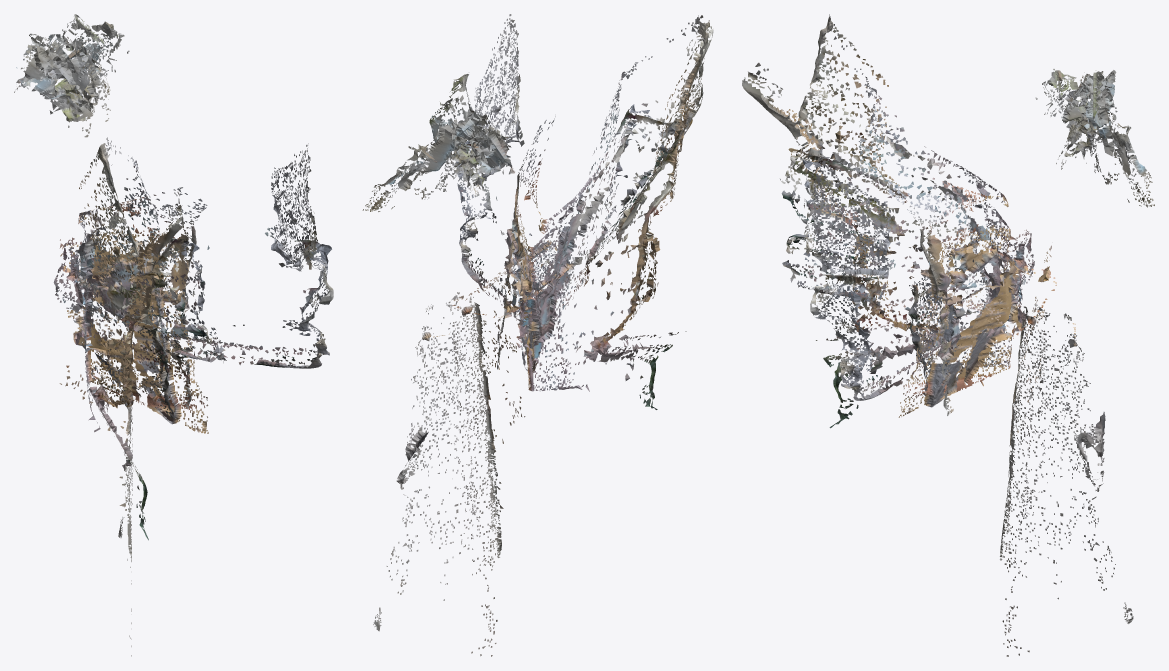
The picture shows the model from 3 angles, left to right: view 1: azimuth 30°, elevation 25°; view 2: azimuth 150°, elevation 25°; view 3: azimuth 270°, elevation 25°; orthographic projection. The views are drawn at different scales.
Visible parts, largest first — view 1: geometry_0; view 2: geometry_0; view 3: geometry_0.
Boxes of the visible parts, <box> form: geometry_0: <box>14,14,333,656</box>; geometry_0: <box>362,14,713,656</box>; geometry_0: <box>742,14,1154,656</box>.
Size of the model in its own units: 0.6994 by 1.68 by 1.07.
